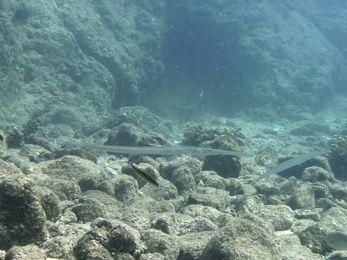Fistularia commersonii: (30, 99, 291, 186), (240, 128, 337, 193)
